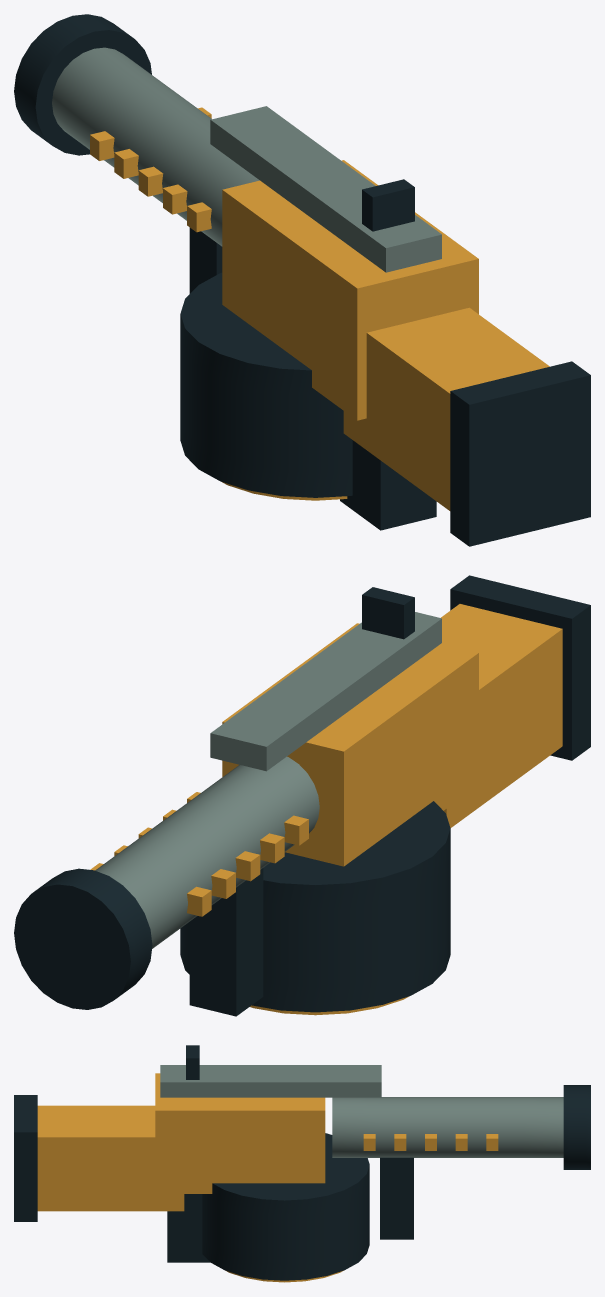
The model's file is scrap_blaster.glb.
The picture shows the model from 3 angles, top to bottom: view 1: azimuth 30°, elevation 25°; view 2: azimuth 150°, elevation 25°; view 3: azimuth 270°, elevation 25°; orthographic projection. The views are drawn at different scales.
Parts seen in each view (by area): view 1: Receiver, Drum, Butt, Stock, Barrel, Rail, MuzzleRing, Grip, RearSight, Foregrip, Cooling4; view 2: Drum, Receiver, Barrel, Stock, MuzzleRing, Rail, Foregrip, Butt, RearSight, Cooling2, Cooling1, Cooling3 (+2 smaller); view 3: Drum, Receiver, Stock, Barrel, Rail, Butt, Foregrip, MuzzleRing, Grip, RearSight.
Part boxes in pixels (box(x1,y1,x2,y2)): Receiver: box(222, 160, 478, 420); Drum: box(180, 272, 352, 497); Butt: box(450, 361, 590, 546); Stock: box(343, 307, 549, 510); Barrel: box(52, 47, 259, 246); Rail: box(210, 106, 441, 272); MuzzleRing: box(14, 14, 151, 155); Grip: box(340, 440, 436, 530); RearSight: box(362, 179, 414, 231); Foregrip: box(189, 227, 222, 293); Cooling4: box(90, 107, 211, 160); Drum: box(180, 801, 450, 1012); Receiver: box(222, 623, 478, 866); Barrel: box(95, 756, 319, 948); Stock: box(441, 604, 562, 827); MuzzleRing: box(14, 868, 152, 1009); Rail: box(210, 612, 441, 771); Foregrip: box(189, 868, 263, 1016); Butt: box(450, 575, 590, 760); RearSight: box(362, 587, 414, 639); Cooling2: box(138, 827, 260, 881); Cooling1: box(163, 809, 284, 863); Cooling3: box(114, 845, 235, 898); Drum: box(202, 1133, 369, 1280); Receiver: box(155, 1073, 325, 1193); Stock: box(37, 1105, 184, 1211); Barrel: box(332, 1097, 563, 1157); Rail: box(160, 1065, 381, 1097); Butt: box(14, 1095, 37, 1221); Foregrip: box(380, 1157, 413, 1239); MuzzleRing: box(563, 1085, 590, 1169); Grip: box(167, 1194, 210, 1262); RearSight: box(186, 1045, 199, 1079).
Size of the model in its own units: 0.5 by 0.655 by 1.69.
